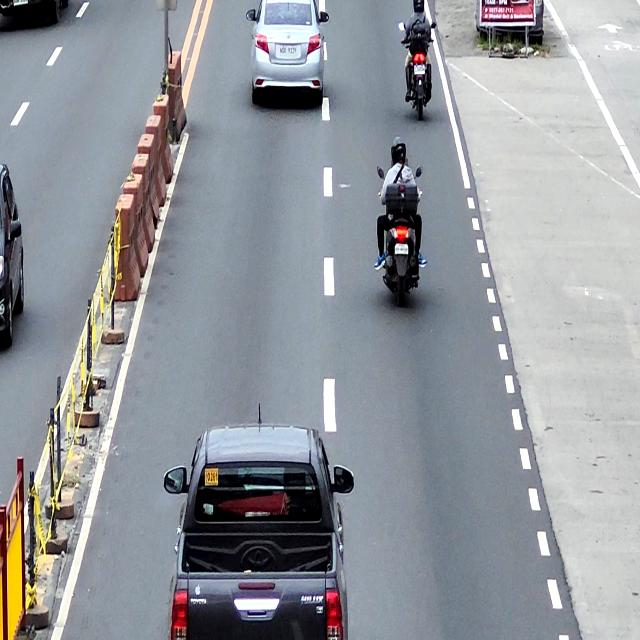Car: (162, 424, 353, 640), (248, 0, 328, 104), (0, 164, 24, 348)
License-Plate: (394, 243, 409, 256), (279, 46, 297, 56), (414, 64, 425, 76)
Motorcycle: (376, 166, 423, 308), (400, 20, 437, 120)
